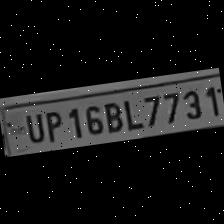1: (61, 102, 85, 139), (200, 82, 223, 118)
3: (178, 85, 204, 121)
6: (78, 99, 104, 137)
7: (156, 88, 181, 124), (138, 90, 162, 127)
B: (99, 96, 124, 134)
L: (119, 94, 144, 132)
P: (40, 106, 66, 142)
U: (19, 108, 45, 144)
